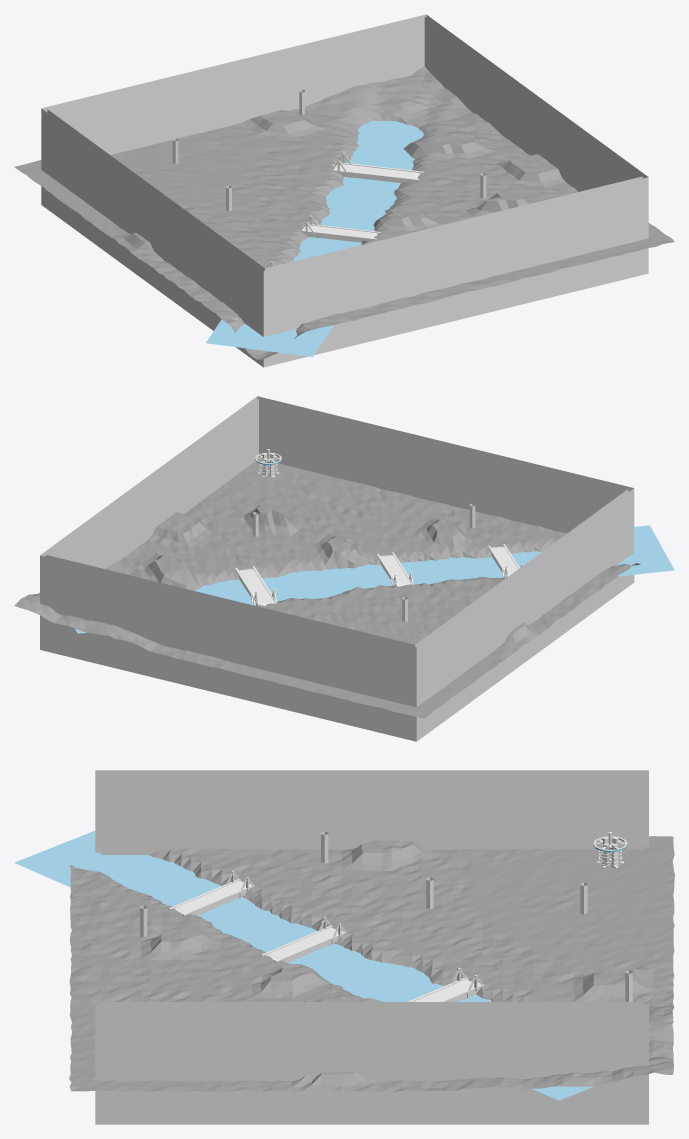
The model's file is map.fbx.
The picture shows the model from 3 angles, top to bottom: view 1: azimuth 30°, elevation 25°; view 2: azimuth 150°, elevation 25°; view 3: azimuth 270°, elevation 25°; orthographic projection. The views are drawn at different scales.
Parts seen in each view (by area): view 1: groundBase:Layer3, groundBase:Layer2, groundBase:Layer8, groundBase:Layer4, groundBase:Layer7; view 2: groundBase:Layer3, groundBase:Layer2, groundBase:Layer8, groundBase:Layer4, groundBase:Layer7, groundBase:Layer5; view 3: groundBase:Layer3, groundBase:Layer2, groundBase:Layer8, groundBase:Layer4, groundBase:Layer7, groundBase:Layer6.
Boxes of the visible parts, x1=… form: groundBase:Layer3: x1=41, y1=14, x2=648, y2=367; groundBase:Layer2: x1=14, y1=66, x2=674, y2=359; groundBase:Layer8: x1=206, y1=121, x2=423, y2=356; groundBase:Layer4: x1=266, y1=152, x2=423, y2=268; groundBase:Layer7: x1=172, y1=89, x2=486, y2=242; groundBase:Layer3: x1=40, y1=396, x2=634, y2=741; groundBase:Layer2: x1=14, y1=460, x2=640, y2=718; groundBase:Layer8: x1=75, y1=525, x2=674, y2=633; groundBase:Layer4: x1=235, y1=544, x2=523, y2=605; groundBase:Layer7: x1=238, y1=503, x2=504, y2=621; groundBase:Layer5: x1=255, y1=449, x2=282, y2=477; groundBase:Layer3: x1=95, y1=770, x2=648, y2=1124; groundBase:Layer2: x1=69, y1=836, x2=674, y2=1092; groundBase:Layer8: x1=14, y1=830, x2=593, y2=1100; groundBase:Layer4: x1=168, y1=870, x2=484, y2=1001; groundBase:Layer7: x1=140, y1=831, x2=632, y2=1001; groundBase:Layer6: x1=593, y1=832, x2=627, y2=868.
Size of the model in its own units: 10923 by 2235 by 10961.
